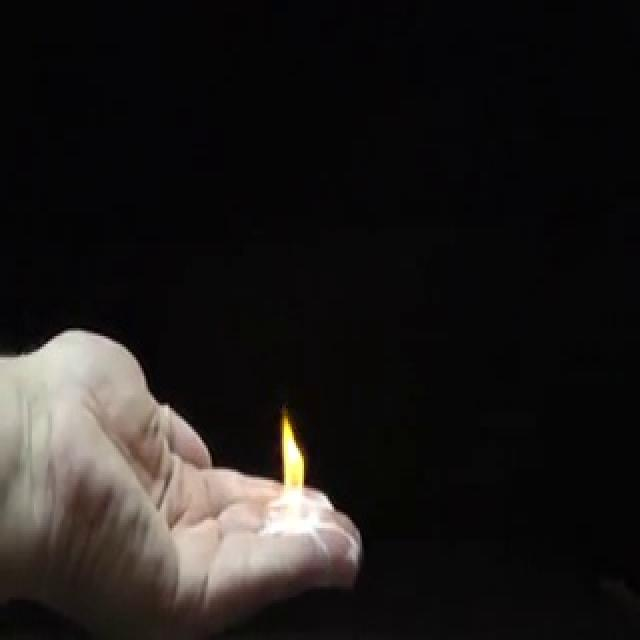fire: (268, 398, 309, 534)
